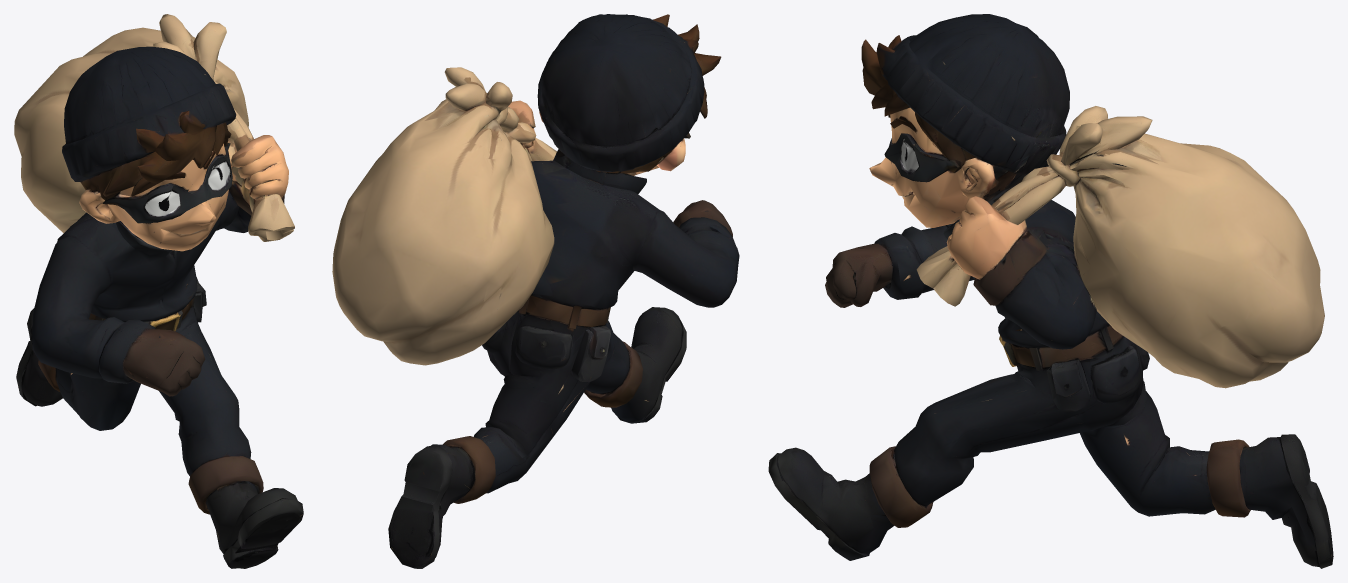
Rendered from SM_Robber_Fal.fbx.
3 views of the same model, side by side, from view 1: azimuth 30°, elevation 25°; view 2: azimuth 150°, elevation 25°; view 3: azimuth 270°, elevation 25° (orthographic). The views are drawn at different scales.
Parts seen in each view (by area): view 1: SM_Robber; view 2: SM_Robber; view 3: SM_Robber.
Boxes of the visible parts, x1,y1,x2,y2 form: SM_Robber: [14, 14, 303, 568]; SM_Robber: [332, 14, 739, 568]; SM_Robber: [768, 14, 1333, 568].
Size of the model in its own units: 1.24 by 1.9 by 1.89.
Materials: 1 (1 with a texture image).
